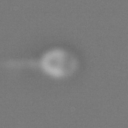normal: (1, 53, 39, 76)
